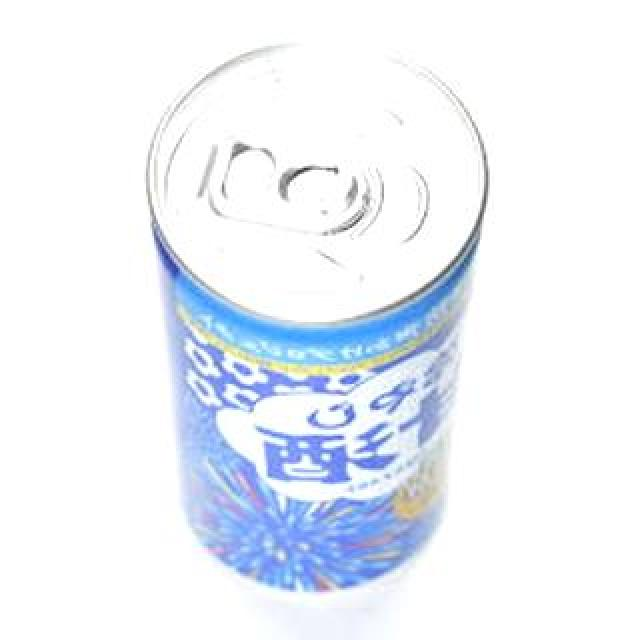Can: (148, 30, 488, 612)
